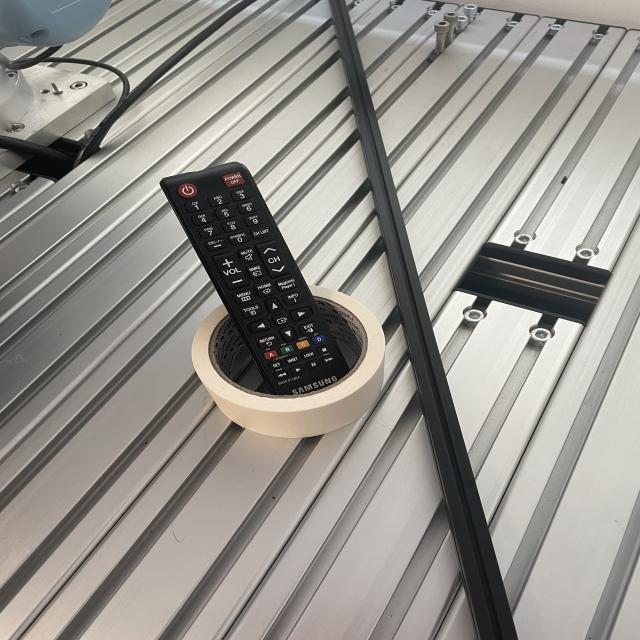remote: (156, 160, 354, 396)
